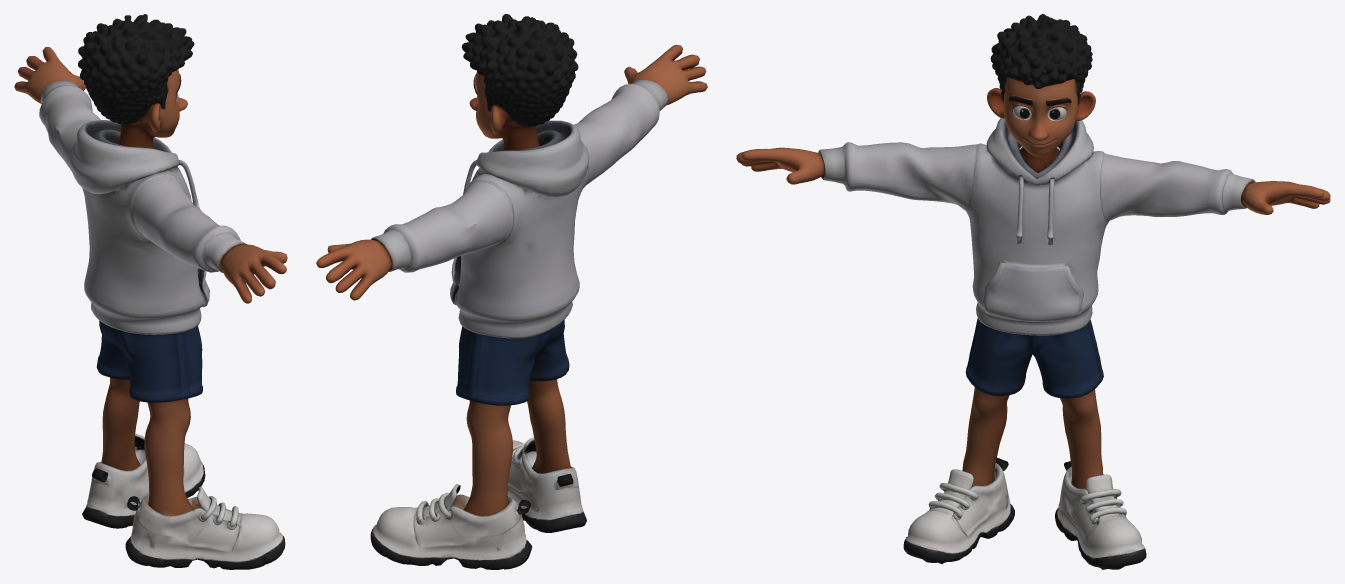
3 views of the same model, side by side, from view 1: azimuth 30°, elevation 25°; view 2: azimuth 150°, elevation 25°; view 3: azimuth 270°, elevation 25° (orthographic). The views are drawn at different scales.
Visible parts, largest first — view 1: tripo_node_60a8ab09-de02-43c8-962c-7decc457fe5c; view 2: tripo_node_60a8ab09-de02-43c8-962c-7decc457fe5c; view 3: tripo_node_60a8ab09-de02-43c8-962c-7decc457fe5c.
Boxes of the visible parts, <box> form: tripo_node_60a8ab09-de02-43c8-962c-7decc457fe5c: <box>14,14,287,569</box>; tripo_node_60a8ab09-de02-43c8-962c-7decc457fe5c: <box>316,14,707,569</box>; tripo_node_60a8ab09-de02-43c8-962c-7decc457fe5c: <box>736,14,1330,569</box>.
Size of the model in its own units: 0.3091 by 0.939 by 0.9995.
1 material, 1 textured.
